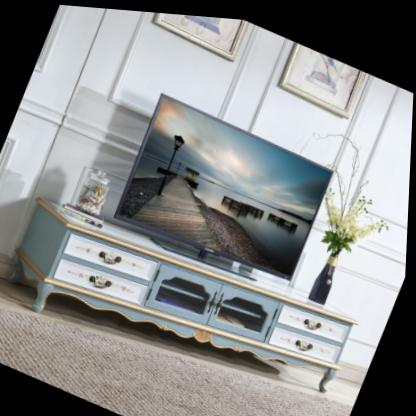TV stand: (11, 197, 363, 388)
